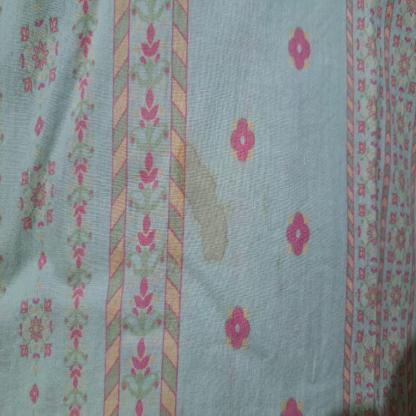spot: (163, 134, 233, 268)
